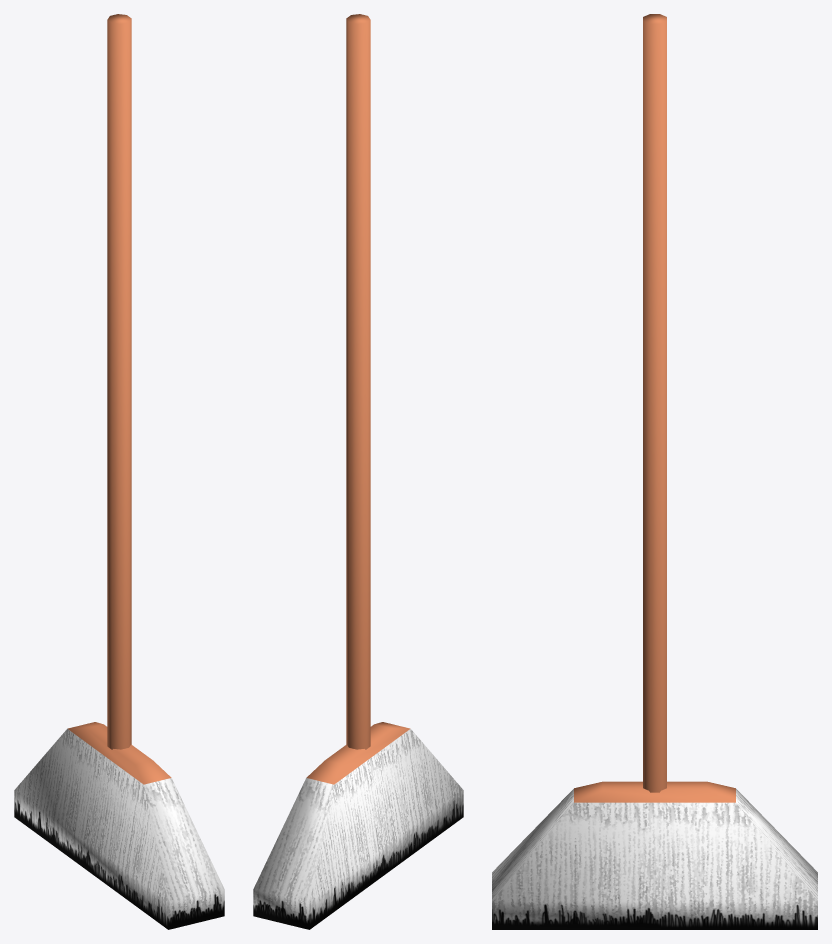
File: Broom.fbx
3 renders of one model, left to right at view 1: azimuth 30°, elevation 25°; view 2: azimuth 150°, elevation 25°; view 3: azimuth 270°, elevation 25°, orthographic. The views are drawn at different scales.
Parts seen in each view (by area): view 1: Broom; view 2: Broom; view 3: Broom.
Part boxes in pixels (x1,y1,x2,y2): Broom: (14,14,224,929); Broom: (253,14,463,929); Broom: (492,14,817,929).
Bounding box in the file's own units: 0.7194 × 2.18 × 0.1515.
